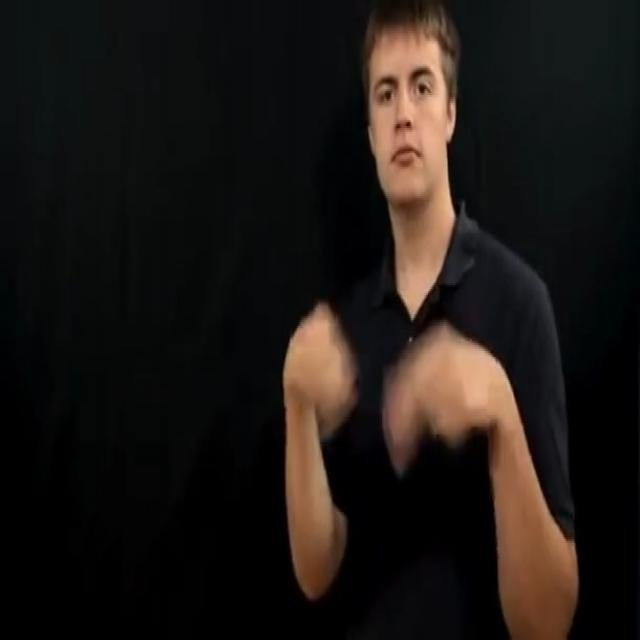eggs: (272, 287, 516, 489)
